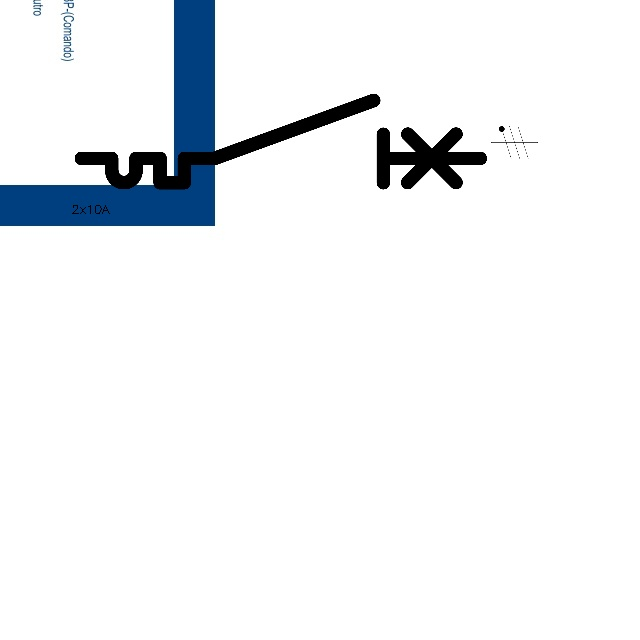interruptor_termomagnetico: (71, 90, 490, 193)
